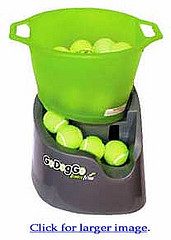tennis ball: (55, 124, 83, 149), (42, 108, 68, 134), (104, 139, 129, 166), (79, 135, 105, 160)
